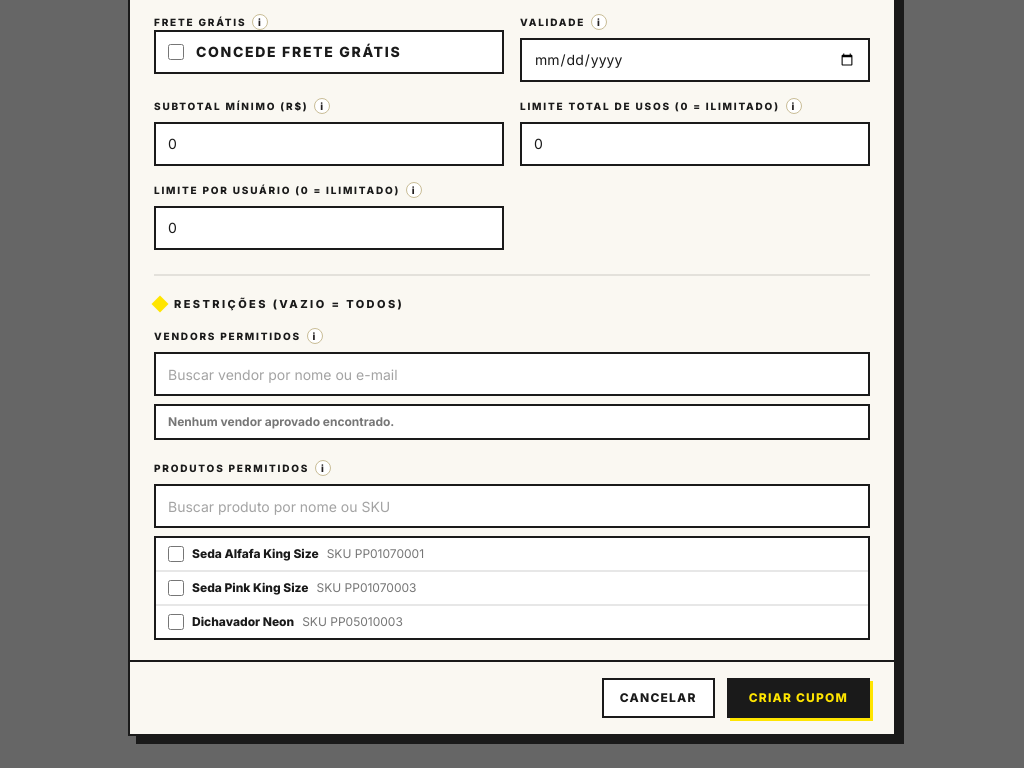
CouponFormModal - seletor de produtos permitidos › filtra por texto e volta à lista completa quando o campo é limpo
(page scrolled)
Expected: the text "Dichavador Neon" is shown, [192,614,294,630]
Type "seda" into the search field with placeholder "Buscar produto por nome ou SKU" at (512,506), box [154,484,870,528]
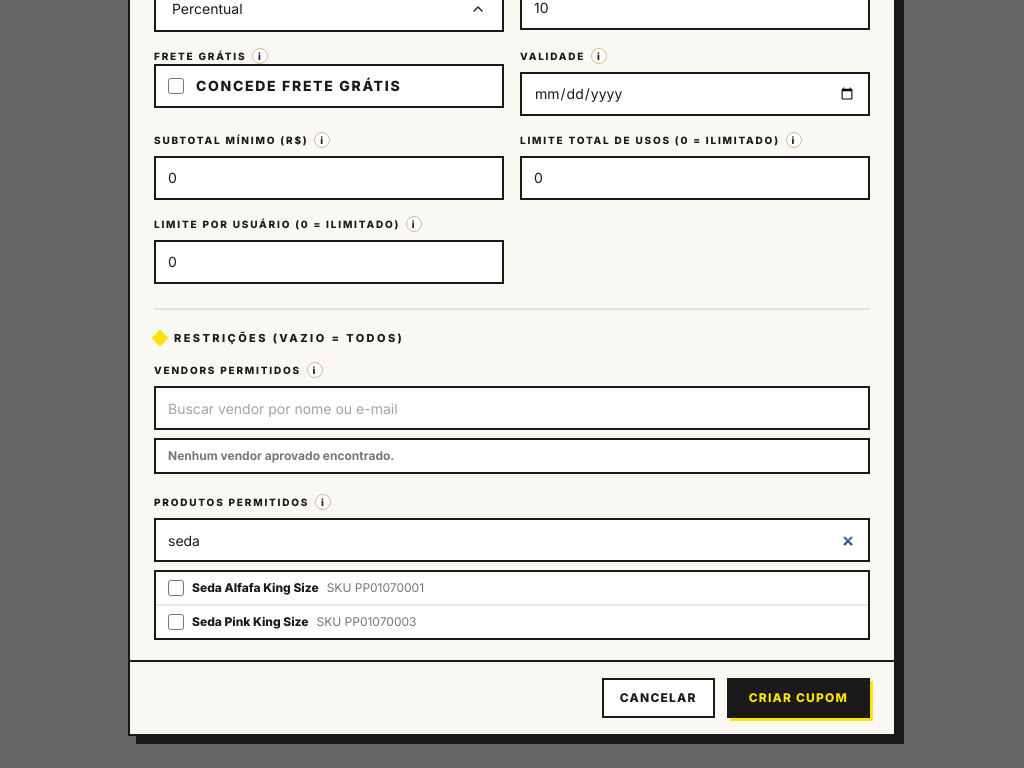
Expected: the text "Seda Alfafa King Size" is shown, [192,580,319,596]
Result: the text "Dichavador Neon" is gone
Clear the search field with placeholder "Buscar produto por nome ou SKU" at (512,540), box [154,518,870,562]
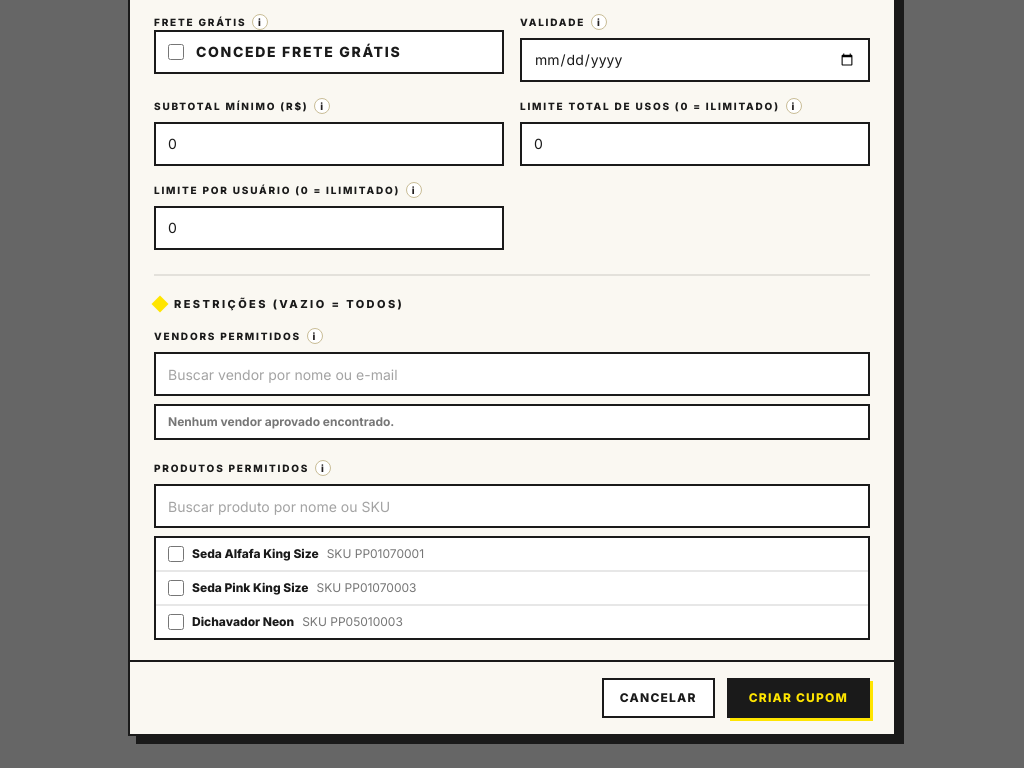
Result: the text "Dichavador Neon" is shown at [192,614,294,630]
